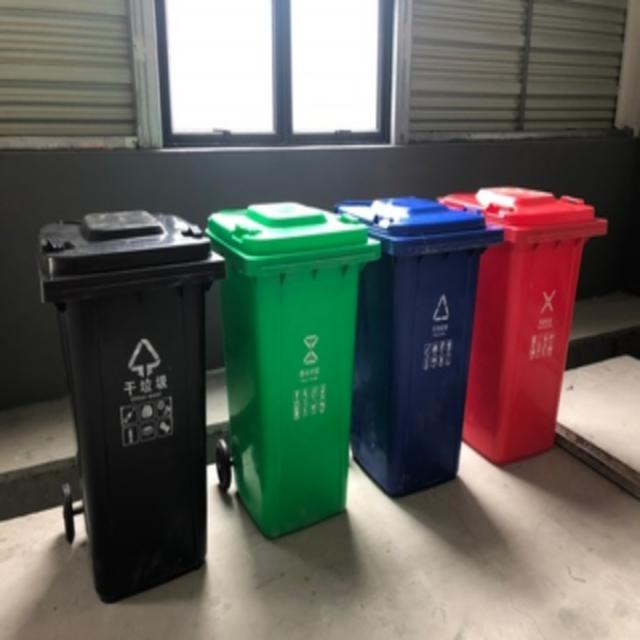ash bin: (34, 207, 228, 604), (203, 198, 379, 542), (330, 198, 506, 504), (442, 190, 606, 463)
